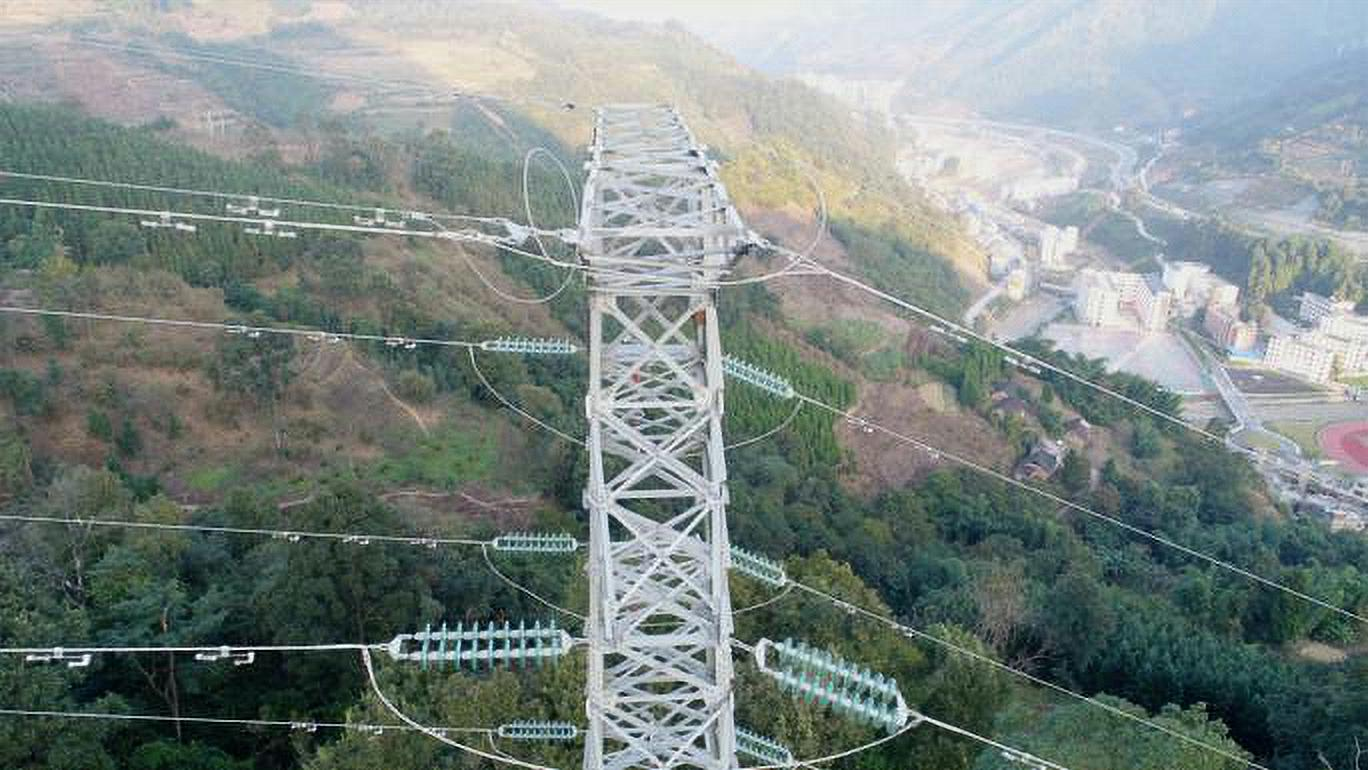insulator: (774, 634, 902, 737), (417, 616, 564, 675), (722, 350, 790, 399), (727, 542, 787, 589), (500, 527, 579, 560), (732, 723, 790, 766), (491, 332, 574, 360), (508, 716, 576, 745)
